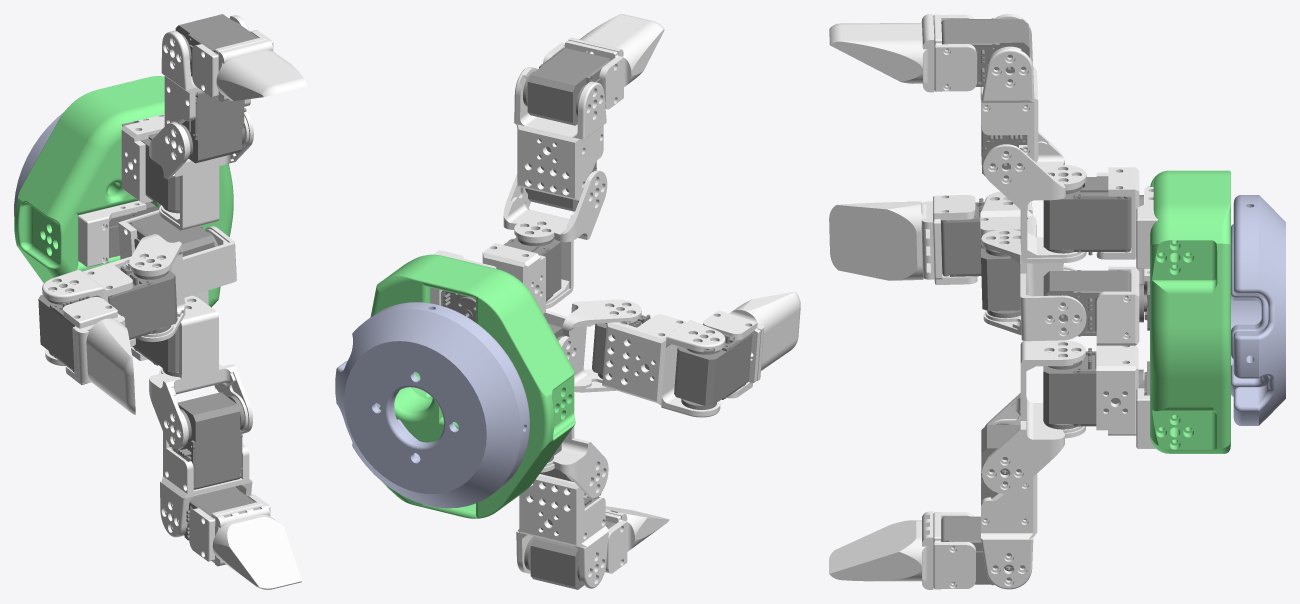
File: dexremo_hand_only.glb
3 views of the same model, side by side, from view 1: azimuth 30°, elevation 25°; view 2: azimuth 150°, elevation 25°; view 3: azimuth 270°, elevation 25° (orthographic). The views are drawn at different scales.
Visible parts, largest first — view 1: hand-base-1, support2-1-4, finger2-1, STS3215_03a.step-14, support2-1-1, support2-1-5, finger-1, finger3-1, STS3215_03a.step-2, STS3215_03a.step-18, support3-4, support3-5 (+15 smaller); view 2: falan3-2, hand-base-1, support3-5, support3-1, support3-4, support2-1-5, STS3215_03a.step-3, STS3215_03a.step-19, support2-1-1, finger-1, finger3-1, support2-1-4 (+10 smaller); view 3: hand-base-1, falan3-2, finger-1, support2-1-4, support2-1-5, STS3215_03a.step-17, finger2-1, support2-1-1, finger3-1, support3-5, support3-4, STS3215_03a.step-13 (+17 smaller).
Boxes of the visible parts, x1=… form: hand-base-1: x1=14, y1=76, x2=233, y2=307; support2-1-4: x1=149, y1=295, x2=252, y2=449; finger2-1: x1=212, y1=504, x2=301, y2=589; STS3215_03a.step-14: x1=169, y1=392, x2=244, y2=489; support2-1-1: x1=129, y1=226, x2=236, y2=341; support2-1-5: x1=149, y1=111, x2=253, y2=230; finger-1: x1=76, y1=316, x2=135, y2=414; finger3-1: x1=216, y1=39, x2=306, y2=101; STS3215_03a.step-2: x1=108, y1=266, x2=177, y2=339; STS3215_03a.step-18: x1=180, y1=91, x2=246, y2=163; support3-4: x1=160, y1=432, x2=252, y2=537; support3-5: x1=161, y1=15, x2=250, y2=125; falan3-2: x1=335, y1=302, x2=529, y2=508; hand-base-1: x1=370, y1=254, x2=575, y2=518; support3-5: x1=514, y1=67, x2=606, y2=200; support3-1: x1=602, y1=314, x2=725, y2=417; support3-4: x1=516, y1=474, x2=608, y2=588; support2-1-5: x1=503, y1=170, x2=607, y2=308; STS3215_03a.step-3: x1=674, y1=332, x2=752, y2=409; STS3215_03a.step-19: x1=523, y1=48, x2=611, y2=125; support2-1-1: x1=543, y1=299, x2=641, y2=392; finger-1: x1=729, y1=291, x2=800, y2=380; finger3-1: x1=568, y1=14, x2=664, y2=86; support2-1-4: x1=541, y1=411, x2=608, y2=497; hand-base-1: x1=1150, y1=170, x2=1230, y2=453; falan3-2: x1=1233, y1=195, x2=1285, y2=425; finger-1: x1=829, y1=201, x2=934, y2=280; support2-1-4: x1=982, y1=340, x2=1085, y2=493; support2-1-5: x1=983, y1=131, x2=1086, y2=263; STS3215_03a.step-17: x1=1043, y1=177, x2=1131, y2=255; finger2-1: x1=829, y1=511, x2=933, y2=589; support2-1-1: x1=981, y1=229, x2=1086, y2=341; finger3-1: x1=829, y1=14, x2=934, y2=92; support3-5: x1=980, y1=14, x2=1038, y2=162; support3-4: x1=981, y1=473, x2=1037, y2=589; STS3215_03a.step-13: x1=1043, y1=348, x2=1127, y2=429.
Size of the model in its own units: 0.1776 by 0.3158 by 0.2369.
